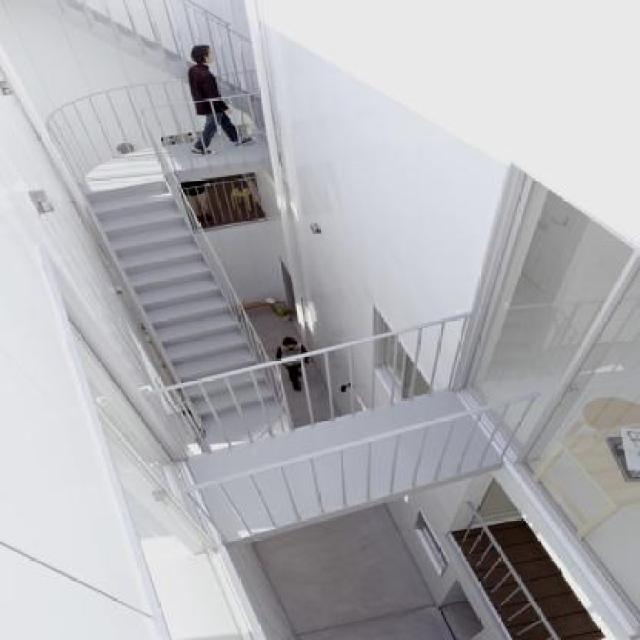stair: (37, 165, 294, 453)
